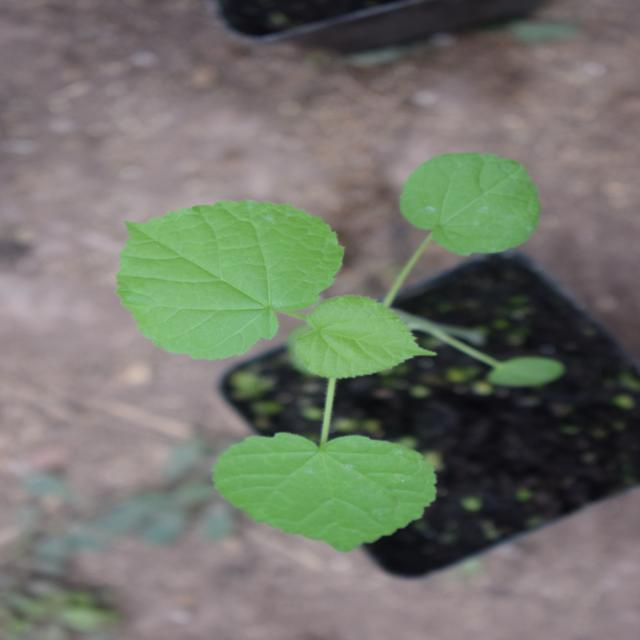abutilon theophrasti: (89, 97, 476, 546)
